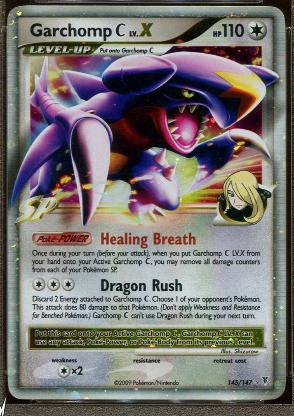Card: (4, 2, 288, 404)
